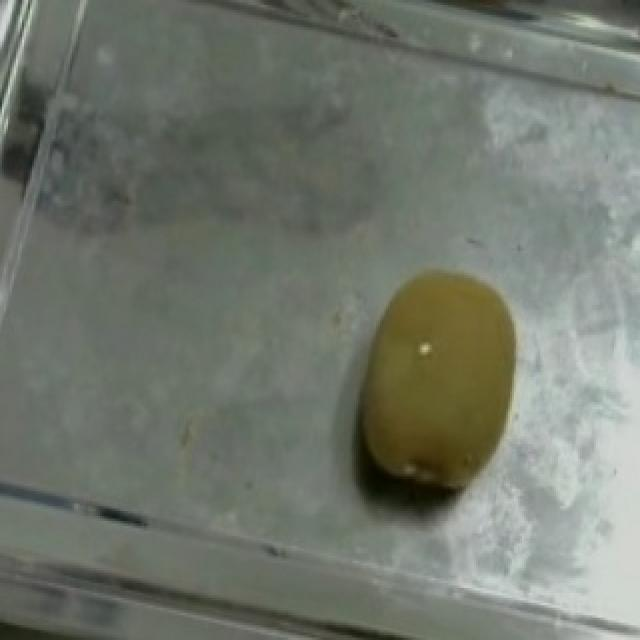Fruit: (322, 238, 554, 531)
